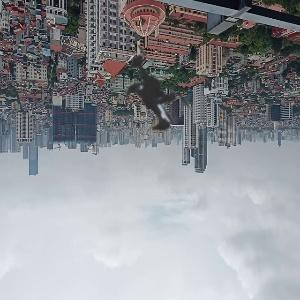drone: (70, 21, 226, 177)
